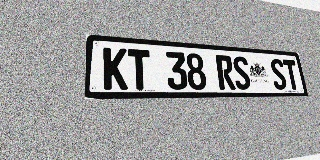3: (166, 51, 188, 90)
8: (185, 53, 207, 90)
K: (103, 47, 128, 90)
R: (215, 55, 236, 90)
S: (232, 56, 252, 90), (269, 58, 288, 90)
T: (128, 49, 151, 90), (282, 59, 301, 90)
